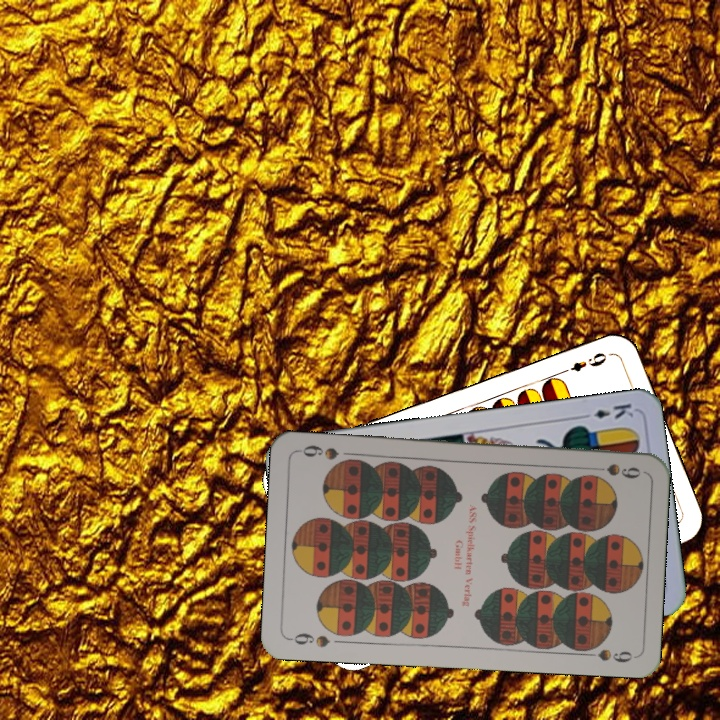E9: (556, 348, 610, 377)
EK: (577, 399, 636, 422)
S9: (585, 460, 644, 481), (285, 629, 332, 650)
